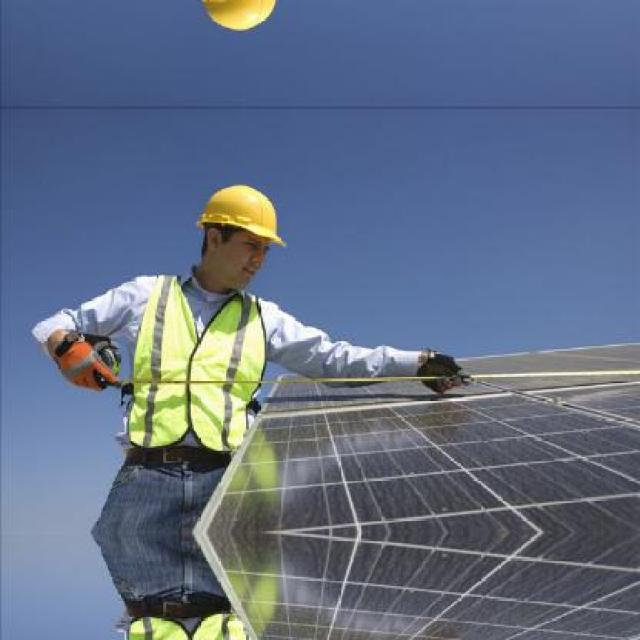helmet: (189, 169, 291, 293), (190, 0, 292, 45)
